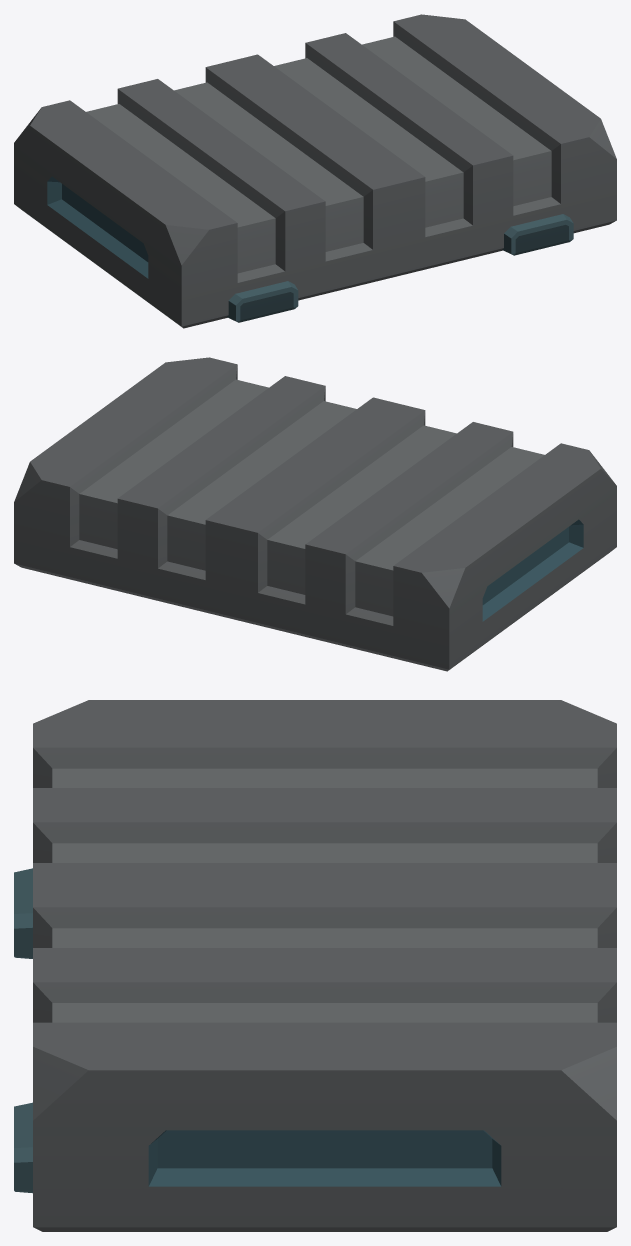
The model's file is Crate_002_cap_001.fbx.
3 views of the same model, one above another, from view 1: azimuth 30°, elevation 25°; view 2: azimuth 150°, elevation 25°; view 3: azimuth 270°, elevation 25° (orthographic). The views are drawn at different scales.
Parts seen in each view (by area): view 1: Crate_002_cap_001; view 2: Crate_002_cap_001; view 3: Crate_002_cap_001.
Part boxes in pixels (box(x1,y1,x2,y2)): Crate_002_cap_001: box(14, 14, 616, 328); Crate_002_cap_001: box(14, 357, 616, 671); Crate_002_cap_001: box(14, 700, 616, 1231).
Size of the model in its own units: 90 by 61.95 by 18.8.
